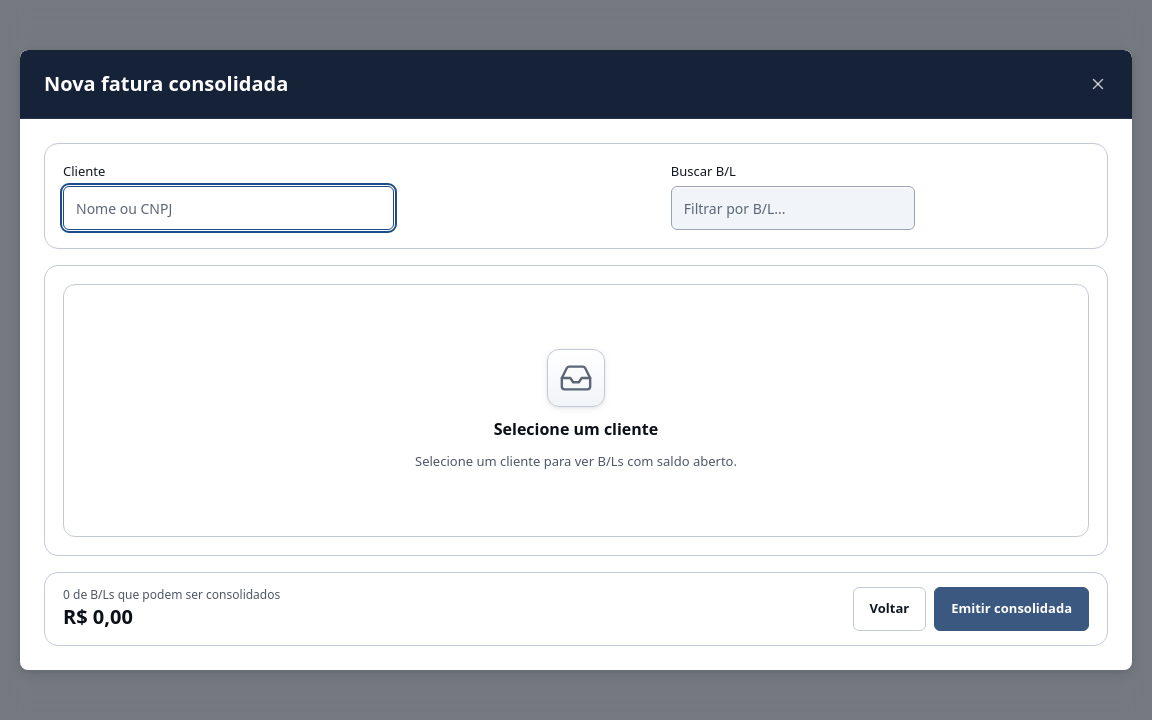
Test case: ConsolidatedInvoiceModal — seletor de cliente › erro ao consultar os B/Ls do Cliente não aparece como lista vazia
In the dropdown labelled "Cliente": (229, 208) [63, 186, 394, 230], type "gol"
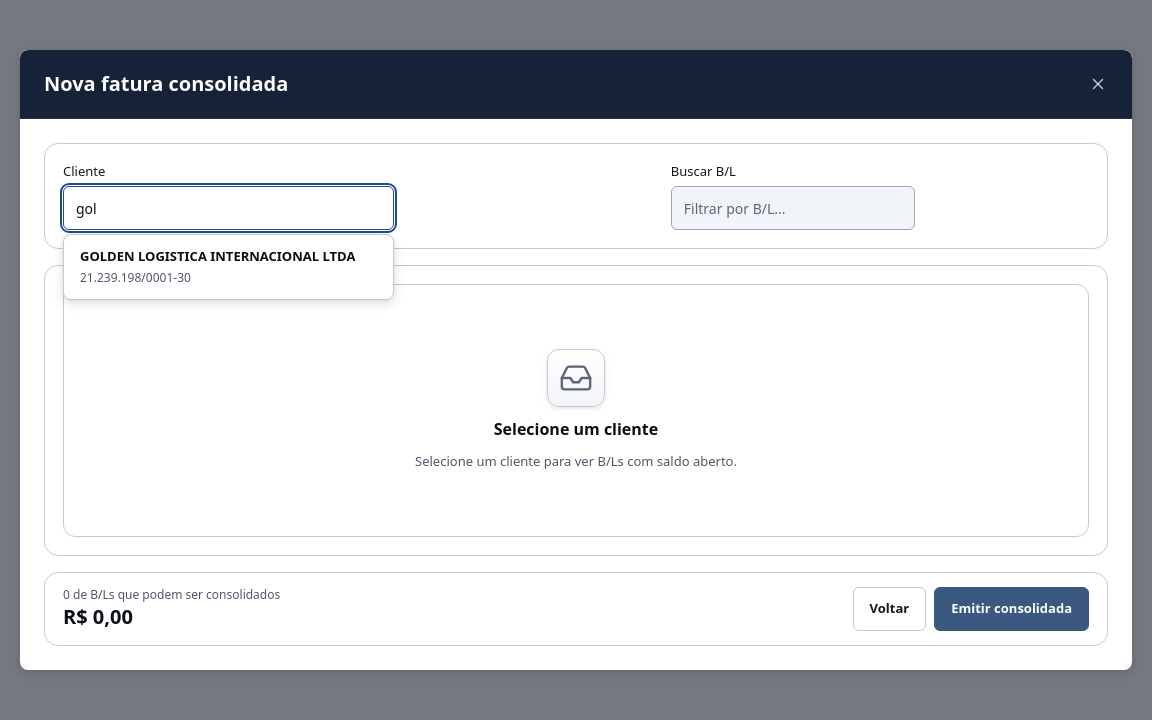
Click the text "GOLDEN LOGISTICA INTERNACIONAL LTDA": (229, 257) [80, 247, 377, 267]
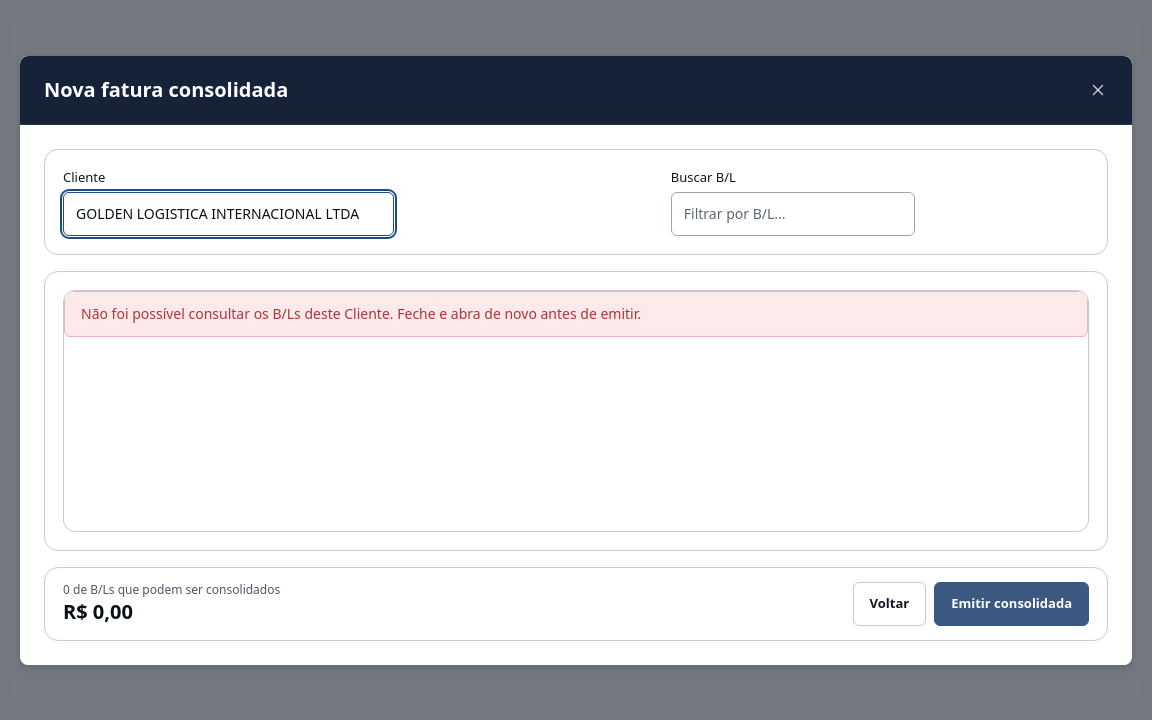
Check: the message shows "Não foi possível consultar os B/Ls", box [81, 304, 641, 322]
